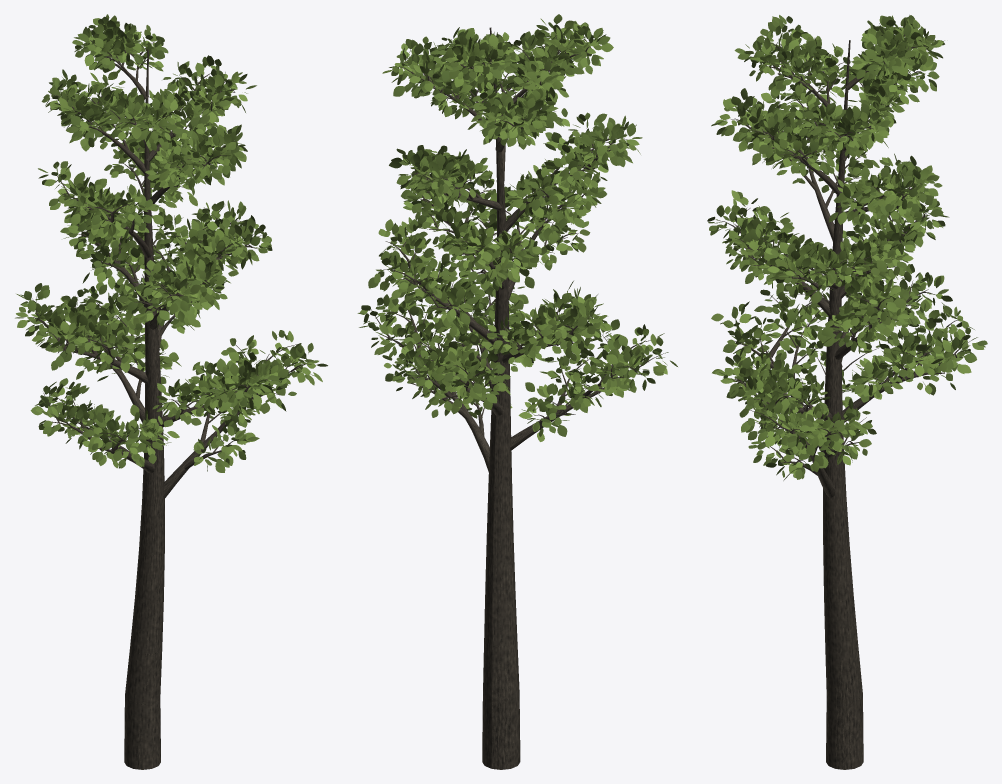
The model's file is upright_02_native_base_T016494_lod0.glb.
3 views of the same model, side by side, from view 1: azimuth 30°, elevation 25°; view 2: azimuth 150°, elevation 25°; view 3: azimuth 270°, elevation 25° (orthographic). The views are drawn at different scales.
Parts seen in each view (by area): view 1: individual_folded_leaves, trunk_branches, native_lower_trunk_extension; view 2: individual_folded_leaves, trunk_branches, native_lower_trunk_extension; view 3: individual_folded_leaves, trunk_branches, native_lower_trunk_extension.
Boxes of the visible parts, x1,y1,x2,y2 form: individual_folded_leaves: (15,14,327,472); trunk_branches: (32,39,311,704); native_lower_trunk_extension: (124,696,160,769); individual_folded_leaves: (357,14,677,441); trunk_branches: (371,27,663,700); native_lower_trunk_extension: (482,694,520,769); individual_folded_leaves: (707,15,987,480); trunk_branches: (717,32,971,702); native_lower_trunk_extension: (826,694,863,769).
Size of the model in its own units: 5.3 by 12.91 by 4.44.
2 materials, 1 textured.
